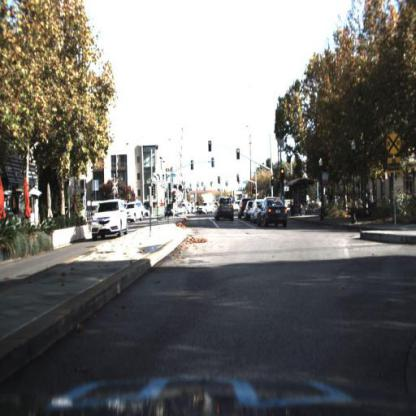car: (89, 197, 130, 243), (257, 195, 289, 229), (125, 198, 147, 227), (251, 196, 269, 227), (216, 195, 237, 221), (127, 199, 146, 226), (199, 199, 217, 218), (172, 203, 193, 219), (251, 199, 260, 223), (238, 197, 247, 220), (244, 200, 251, 221), (147, 206, 152, 220)
pedestrian: (366, 177, 375, 213), (368, 185, 377, 218)
trafficLight-Red: (235, 145, 243, 163), (206, 140, 214, 155), (279, 166, 287, 180), (270, 172, 276, 190), (253, 184, 258, 196)
